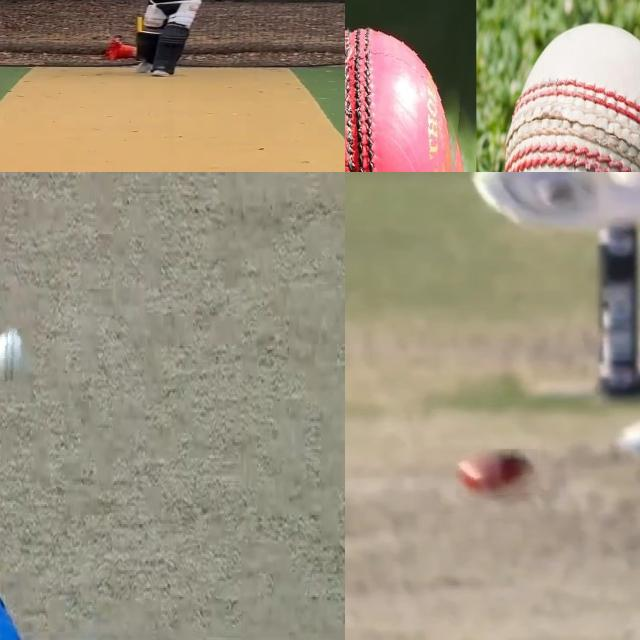Cricket ball: (498, 15, 640, 172), (345, 25, 468, 172), (456, 449, 539, 499), (0, 328, 26, 388)
